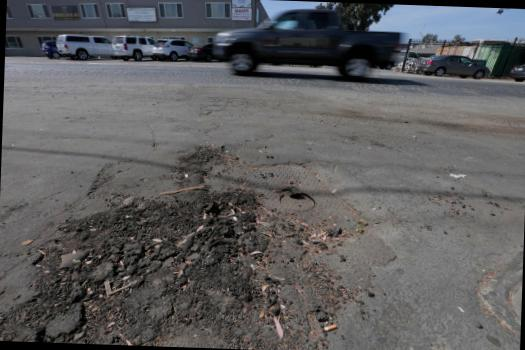pothole: (119, 118, 415, 329)
